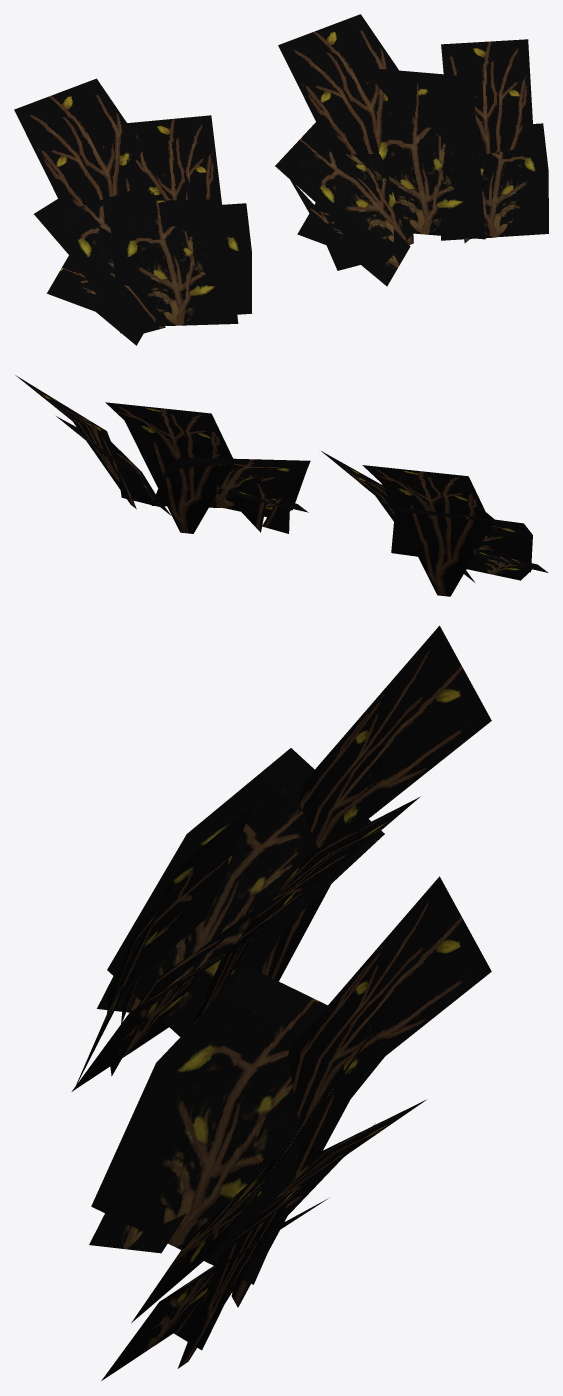
File: 2_Plant_SM_Cao_01.FBX
3 views of the same model, one above another, from view 1: azimuth 30°, elevation 25°; view 2: azimuth 150°, elevation 25°; view 3: azimuth 270°, elevation 25° (orthographic). The views are drawn at different scales.
Parts seen in each view (by area): view 1: 2_Plant_XiaoShuZhi_02, 2_Plant_XiaoShuZhi_01; view 2: 2_Plant_XiaoShuZhi_02, 2_Plant_XiaoShuZhi_01; view 3: 2_Plant_XiaoShuZhi_02, 2_Plant_XiaoShuZhi_01.
Boxes of the visible parts, left/top/right/bottom form: 2_Plant_XiaoShuZhi_02: left=275, top=14, right=548, bottom=286; 2_Plant_XiaoShuZhi_01: left=14, top=78, right=252, bottom=345; 2_Plant_XiaoShuZhi_02: left=15, top=375, right=310, bottom=533; 2_Plant_XiaoShuZhi_01: left=321, top=451, right=548, bottom=596; 2_Plant_XiaoShuZhi_02: left=89, top=876, right=491, bottom=1380; 2_Plant_XiaoShuZhi_01: left=71, top=625, right=491, bottom=1091.
Bounding box in the file's own units: 772 × 259 × 280.
Materials: 1 (1 with a texture image).
